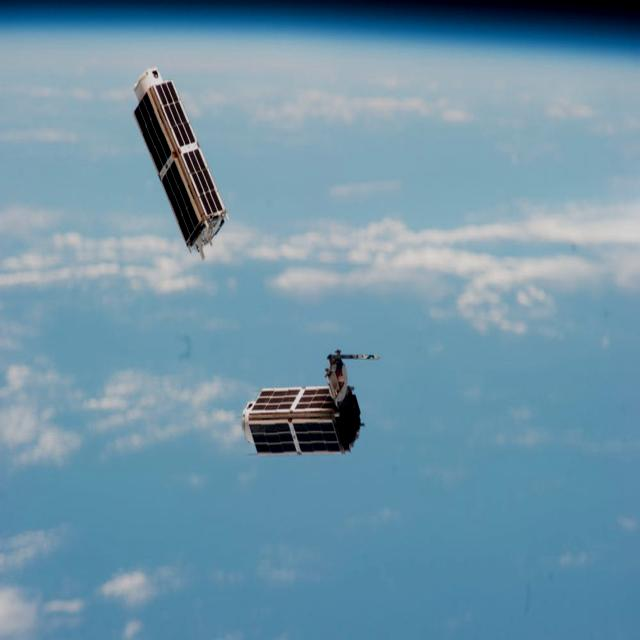medium_debris: (218, 321, 384, 485), (117, 58, 232, 276)
